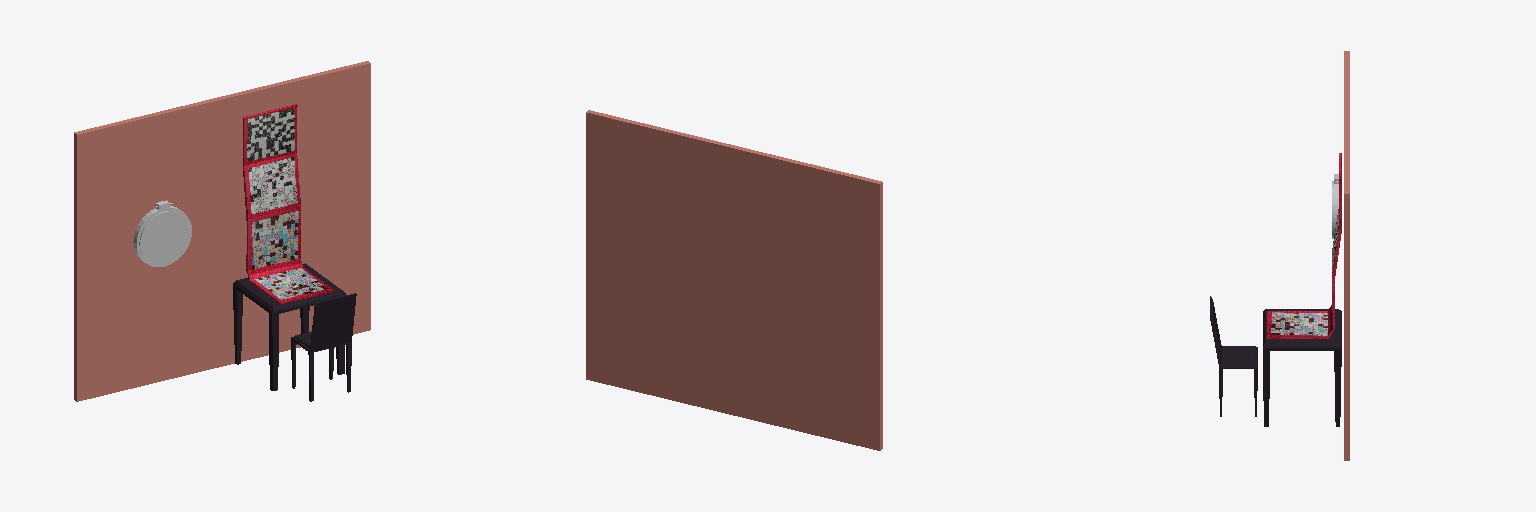
3 renders of one model, left to right at view 1: azimuth 30°, elevation 25°; view 2: azimuth 150°, elevation 25°; view 3: azimuth 270°, elevation 25°, orthographic.
Parts seen in each view (by area): view 1: wall_Cube.002, Cube, table_Cube.001, chair_Cube.003; view 2: wall_Cube.002; view 3: Cube, wall_Cube.002, table_Cube.001, chair_Cube.003.
Part boxes in pixels (bbox=[...]): wall_Cube.002: bbox=[74, 61, 370, 401]; Cube: bbox=[133, 104, 333, 304]; table_Cube.001: bbox=[233, 263, 345, 390]; chair_Cube.003: bbox=[291, 293, 356, 401]; wall_Cube.002: bbox=[586, 110, 882, 450]; Cube: bbox=[1267, 153, 1341, 338]; wall_Cube.002: bbox=[1344, 51, 1349, 460]; table_Cube.001: bbox=[1263, 309, 1341, 426]; chair_Cube.003: bbox=[1210, 296, 1257, 416].
Bounding box in the file's own units: 54.4 × 47.25 × 22.57.
Materials: 4 (1 with a texture image).